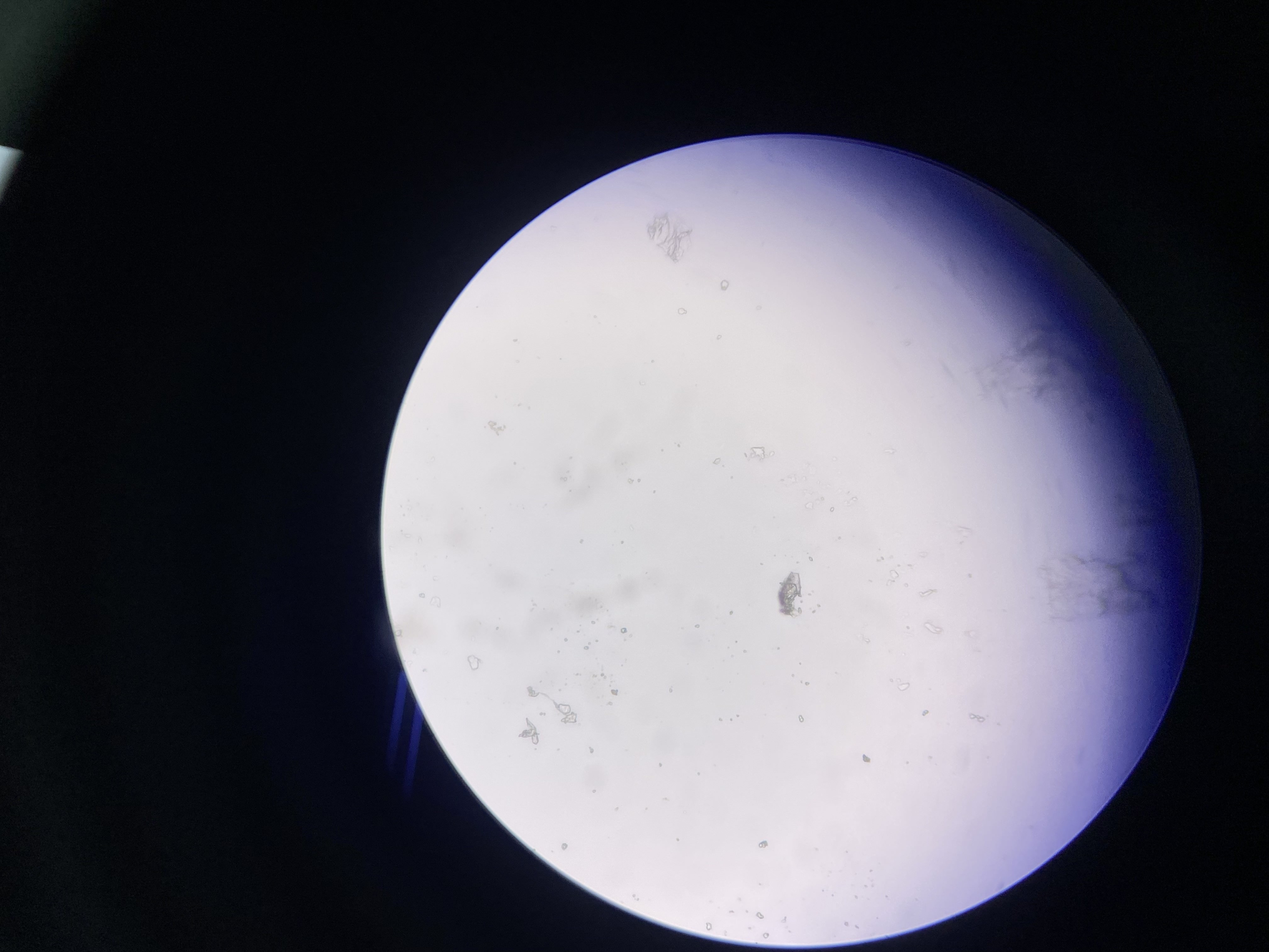not_microplastic: (962, 313, 1117, 423), (1048, 554, 1149, 616), (641, 209, 697, 261), (528, 680, 581, 729), (774, 570, 808, 618), (519, 715, 546, 748), (486, 416, 516, 438), (747, 442, 775, 463), (921, 620, 947, 638), (464, 655, 488, 672), (720, 273, 735, 291), (758, 838, 776, 851), (675, 305, 691, 319), (972, 716, 988, 727), (863, 753, 875, 767), (711, 455, 727, 464)
